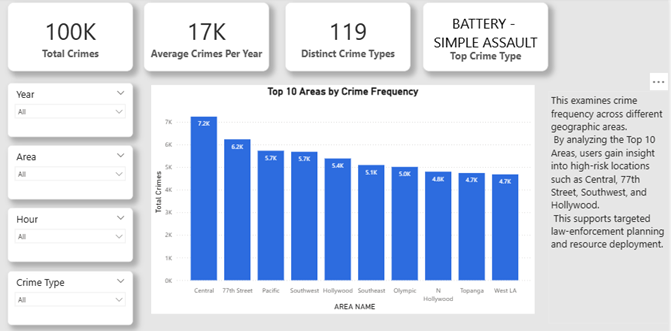

This screenshot's page, from the dashboard's own definition file:
{"tool":"powerbi","page":{"name":"Area Analysis","canvas":[1280,720],"ordinal":2},"visuals":[{"type":"slicer","fields":{"Values":["cleaned_crime_data.Occ_Year"]},"box":[13.8,162.6,240.4,103.8],"z":0},{"type":"slicer","fields":{"Values":["cleaned_crime_data.AREA NAME"]},"box":[13.8,282.5,240.4,103.8],"z":1000},{"type":"slicer","fields":{"Values":["cleaned_crime_data.Crm Cd Desc"]},"box":[13.8,522.4,240.4,103.8],"z":2000},{"type":"slicer","fields":{"Values":["cleaned_crime_data.Hour"]},"box":[13.8,402.5,240.4,103.8],"z":3000},{"type":"card","fields":{"Values":["cleaned_crime_data.Total Crimes"]},"box":[14.4,8.6,240.5,132.5],"z":4000},{"type":"card","fields":{"Values":["cleaned_crime_data.Average Crimes Per Year"]},"box":[275,8.6,240.5,132.5],"z":5000},{"type":"card","fields":{"Values":["cleaned_crime_data.Top Crime Type"]},"box":[809.3,8.6,240.5,132.5],"z":6000},{"type":"card","fields":{"Values":["cleaned_crime_data.Distinct Crime Types"]},"box":[545.8,8.6,240.5,132.5],"z":7000},{"type":"clusteredColumnChart","title":"Top 10 Areas by Crime Frequency","fields":{"Category":["cleaned_crime_data.AREA NAME"],"Y":["cleaned_crime_data.Total Crimes"]},"box":[289.4,167,734.4,437.8],"z":8000},{"type":"textbox","box":[1049.6,178.6,230.4,445],"z":9000}]}

Visuals, with their boxes on the page's 1280x720 design canvas (x1, y1, x2, y2). These are canvas units, not pixel positions in the 671x331 screenshot, which may show the page scaled, cropped or inside an application window:
slicer - cleaned_crime_data.Occ_Year: 14 163 254 266
slicer - cleaned_crime_data.AREA NAME: 14 282 254 386
slicer - cleaned_crime_data.Crm Cd Desc: 14 522 254 626
slicer - cleaned_crime_data.Hour: 14 402 254 506
card - cleaned_crime_data.Total Crimes: 14 9 255 141
card - cleaned_crime_data.Average Crimes Per Year: 275 9 516 141
card - cleaned_crime_data.Top Crime Type: 809 9 1050 141
card - cleaned_crime_data.Distinct Crime Types: 546 9 786 141
"Top 10 Areas by Crime Frequency" clusteredColumnChart: 289 167 1024 605
textbox: 1050 179 1280 624
